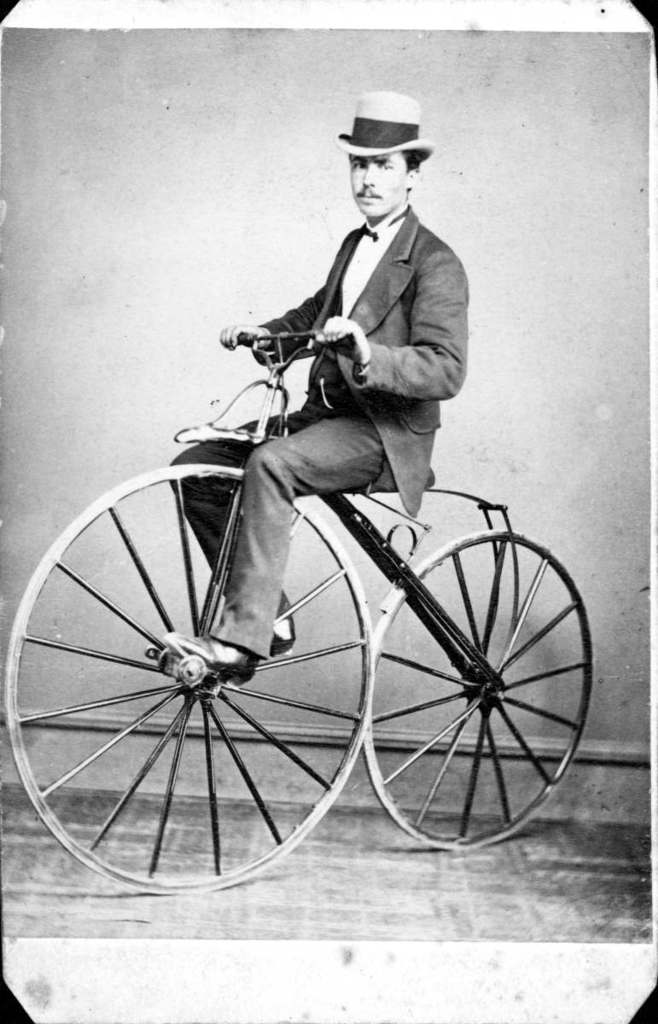Bike_toward: (15, 334, 596, 893)
